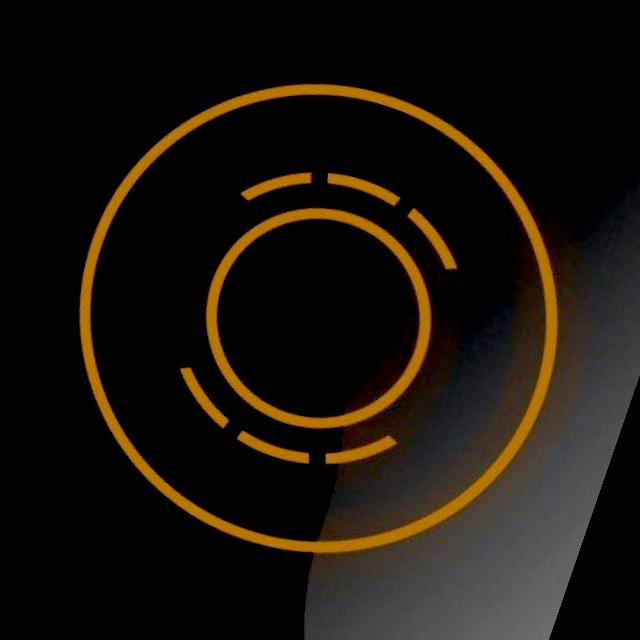kontrolka: (148, 114, 504, 516)
